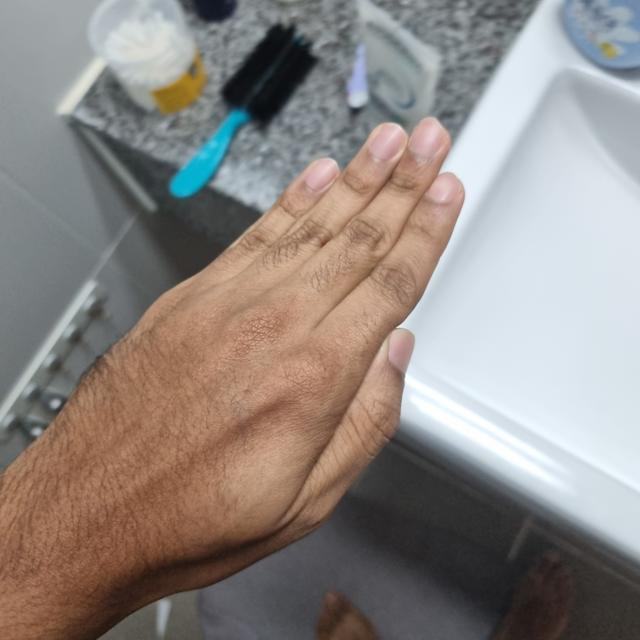Paper: (51, 123, 464, 574)
